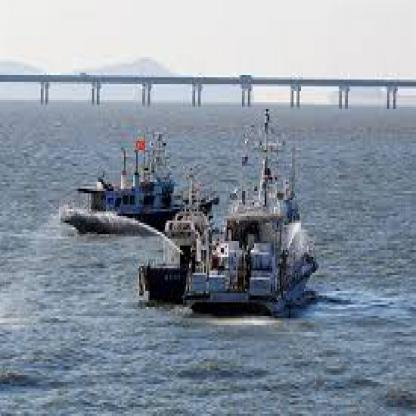fish-b: (44, 118, 231, 232), (121, 232, 325, 320)
